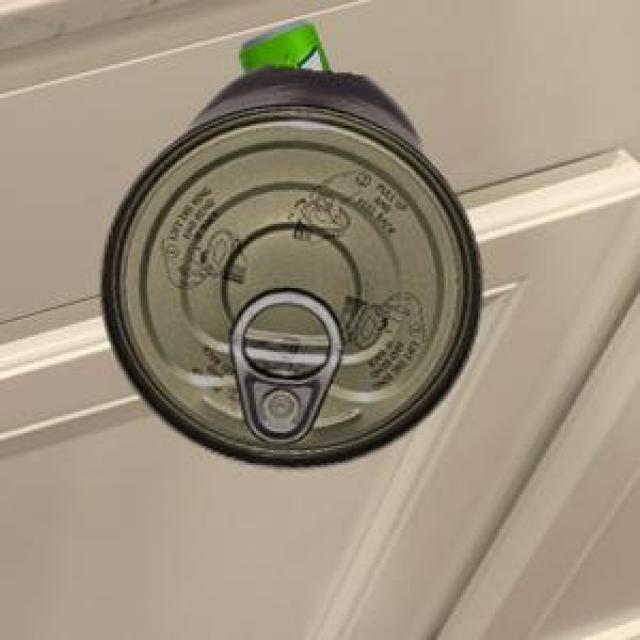logam: (99, 63, 479, 466), (236, 18, 327, 71)
